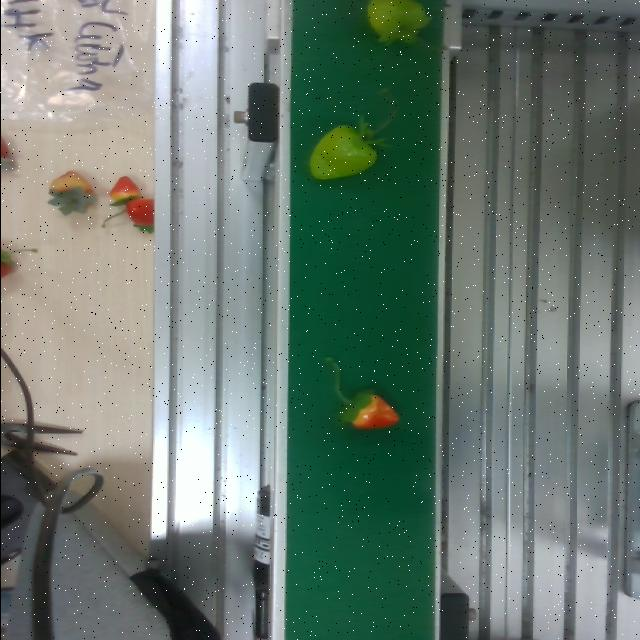Small Unripe Strawberry: (300, 111, 384, 188), (363, 0, 441, 52), (338, 388, 401, 434)
conveyor: (270, 0, 460, 640)
